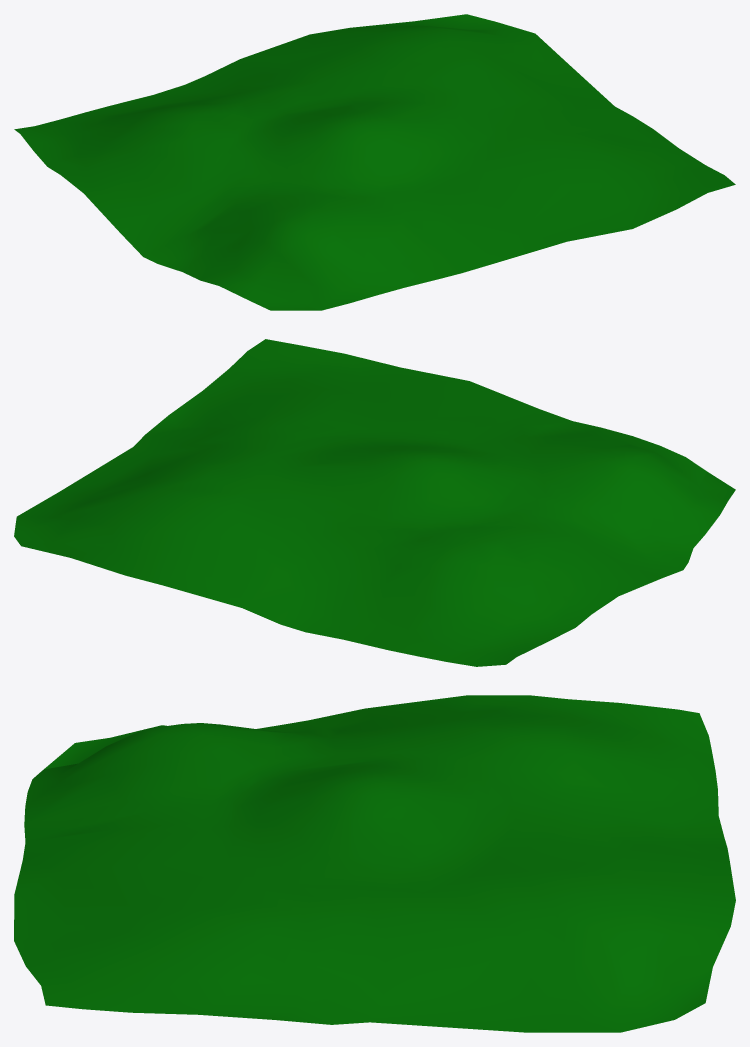
The model's file is makahiki.lvl2.fbx.
3 views of the same model, one above another, from view 1: azimuth 30°, elevation 25°; view 2: azimuth 150°, elevation 25°; view 3: azimuth 270°, elevation 25° (orthographic). The views are drawn at different scales.
Parts seen in each view (by area): view 1: Plane.001; view 2: Plane.001; view 3: Plane.001.
Boxes of the visible parts, x1,y1,x2,y2 form: Plane.001: (14,14,735,310); Plane.001: (14,339,735,666); Plane.001: (14,695,735,1032).
Bounding box in the file's own units: 26142 × 3085 × 24195.
